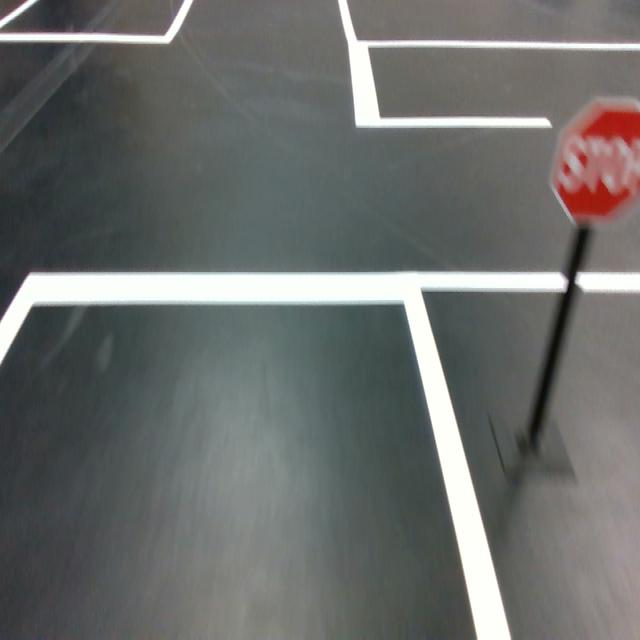stop-sign: (547, 96, 640, 230)
